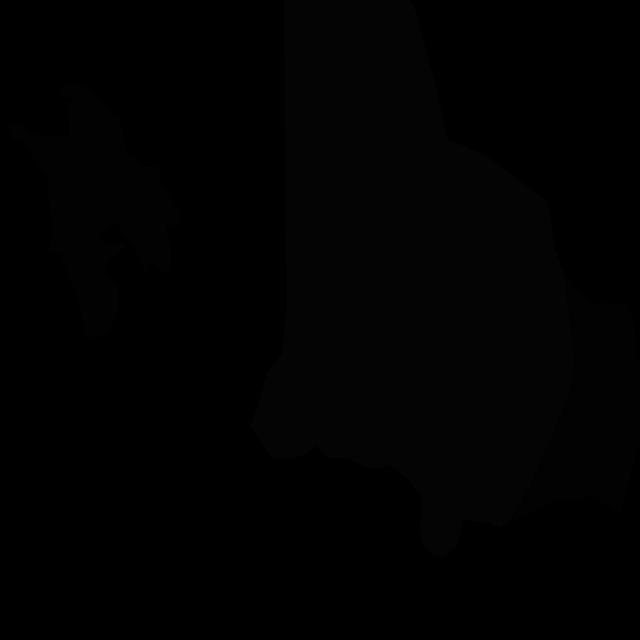cardboard: (8, 84, 182, 340), (513, 274, 640, 521)
soft_plastic: (250, 0, 574, 556)
